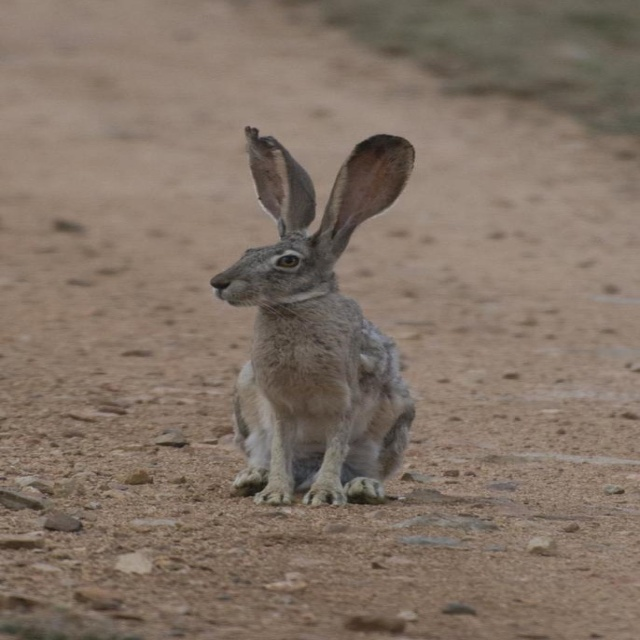Rabbit: (209, 125, 417, 508)
